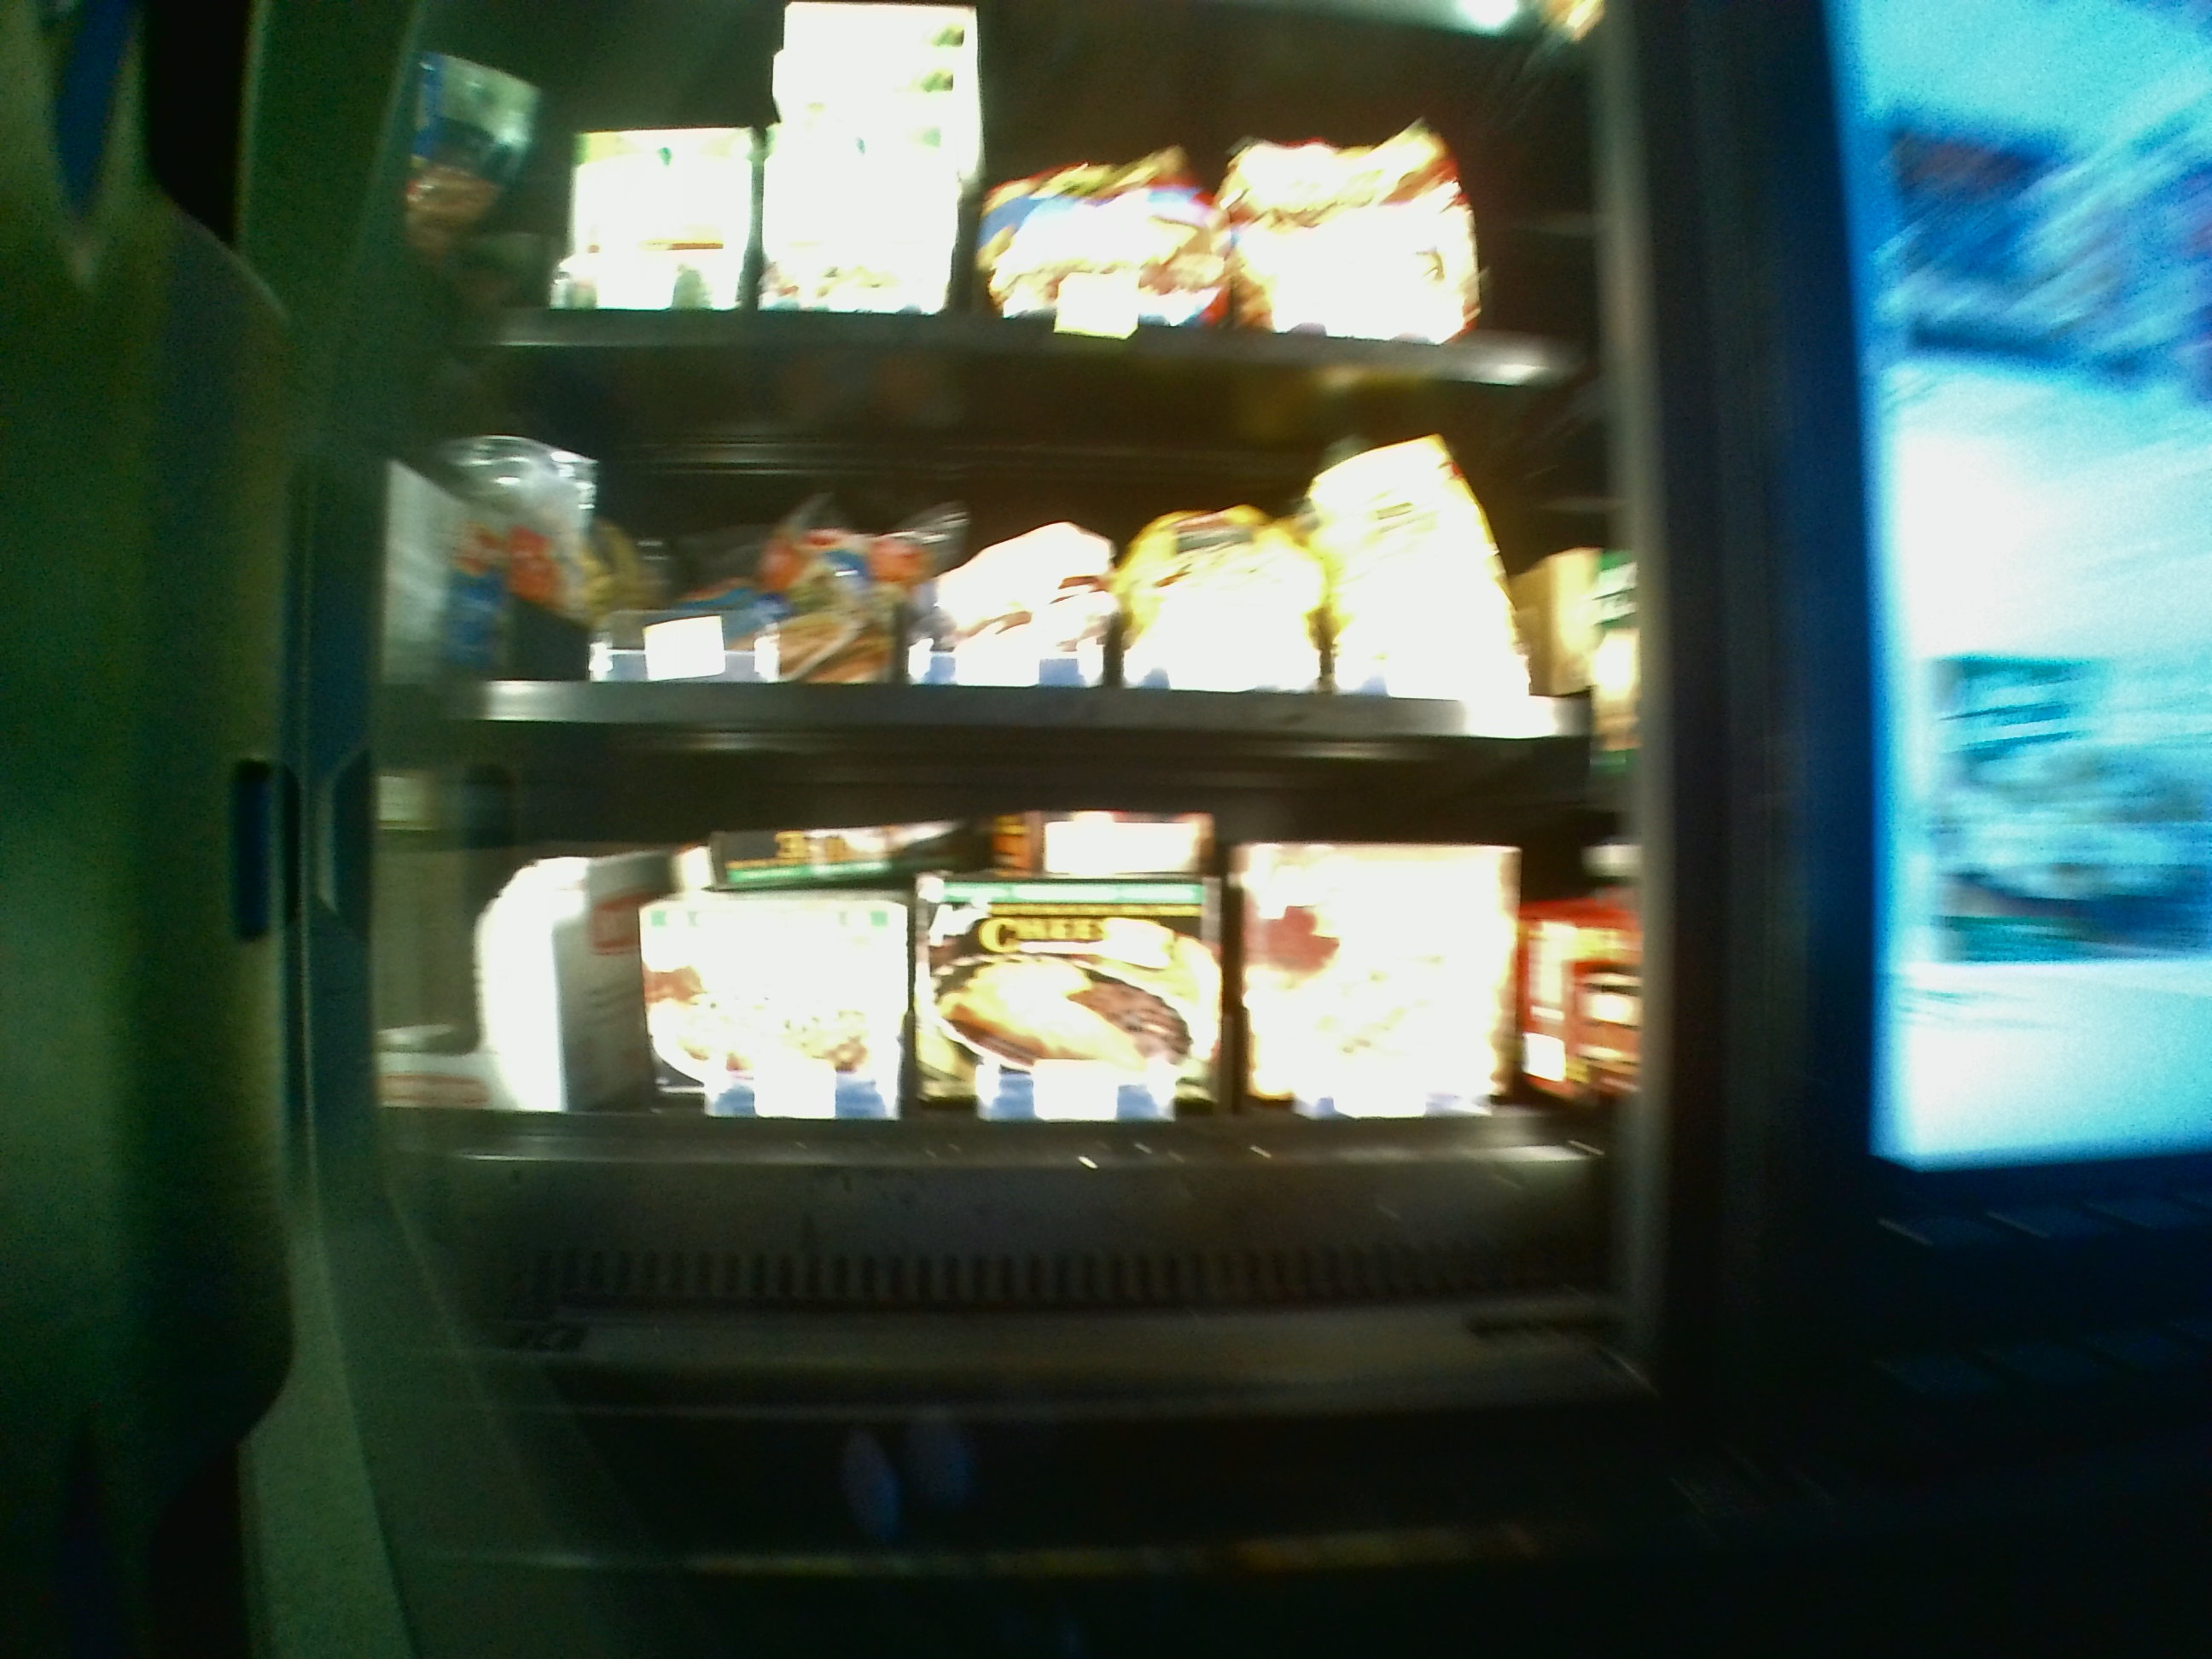shelf: (388, 748, 1616, 1371), (388, 345, 1609, 739)
